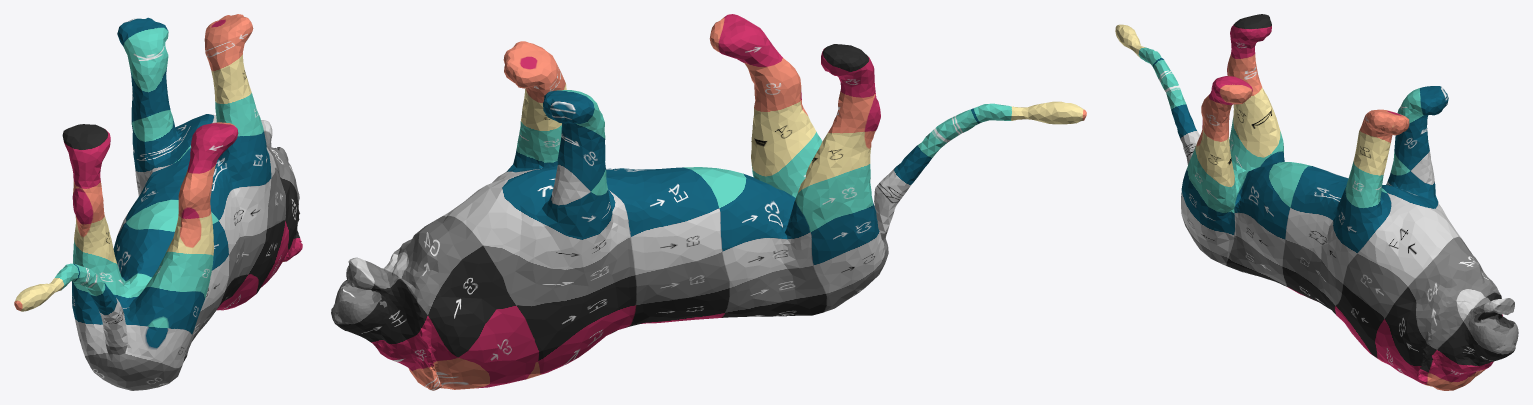
File: wolf_01-lion_05.obj
3 renders of one model, left to right at view 1: azimuth 30°, elevation 25°; view 2: azimuth 150°, elevation 25°; view 3: azimuth 270°, elevation 25°, orthographic. The views are drawn at different scales.
Parts seen in each view (by area): view 1: wolf_01-lion_05_export; view 2: wolf_01-lion_05_export; view 3: wolf_01-lion_05_export.
Boxes of the visible parts, x1=… form: wolf_01-lion_05_export: x1=14, y1=14, x2=302, y2=390; wolf_01-lion_05_export: x1=331, y1=14, x2=1086, y2=390; wolf_01-lion_05_export: x1=1115, y1=14, x2=1518, y2=390.
Bounding box in the file's own units: 0.9703 × 0.5734 × 0.8065.
